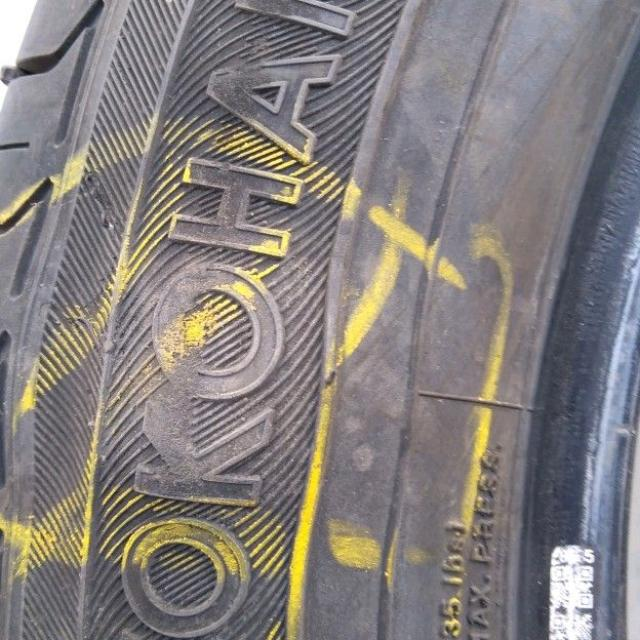Bulge: (81, 237, 406, 531)
